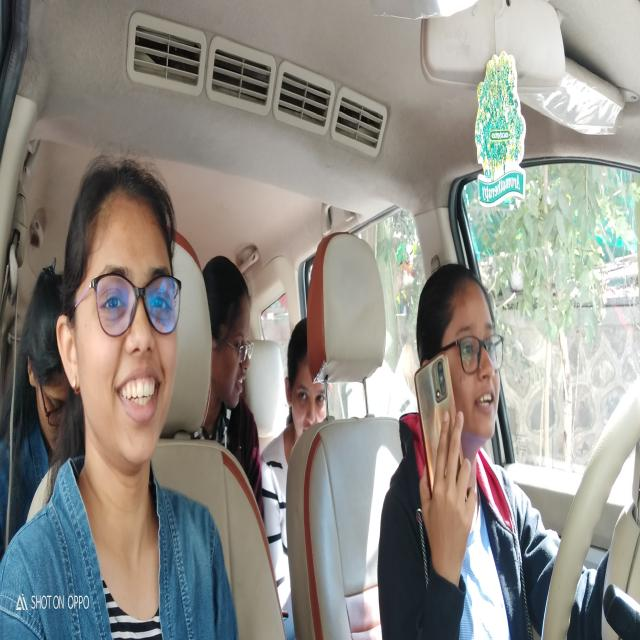mobile: (412, 350, 469, 528)
person: (56, 152, 192, 484), (423, 254, 507, 446), (206, 234, 257, 435), (24, 253, 69, 463), (280, 318, 335, 454)
